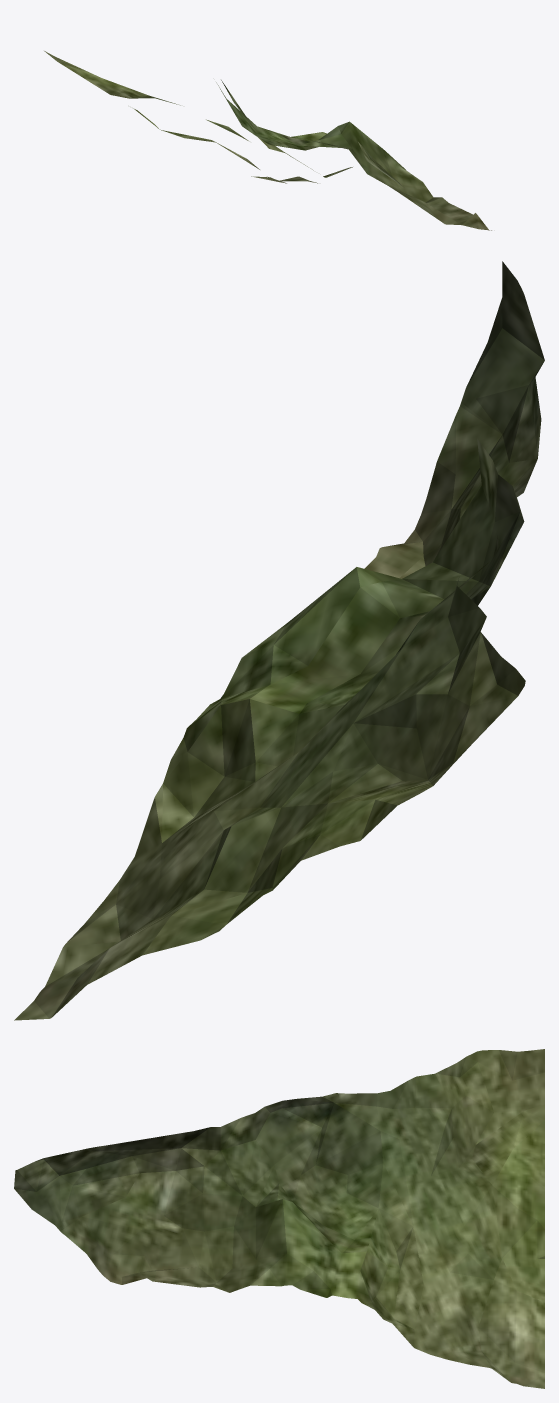
The picture shows the model from 3 angles, top to bottom: view 1: azimuth 30°, elevation 25°; view 2: azimuth 150°, elevation 25°; view 3: azimuth 270°, elevation 25°; orthographic projection. The views are drawn at different scales.
Bounding box in the file's own units: 1.26 × 1.06 × 2.33.
Materials: 1 (1 with a texture image).
